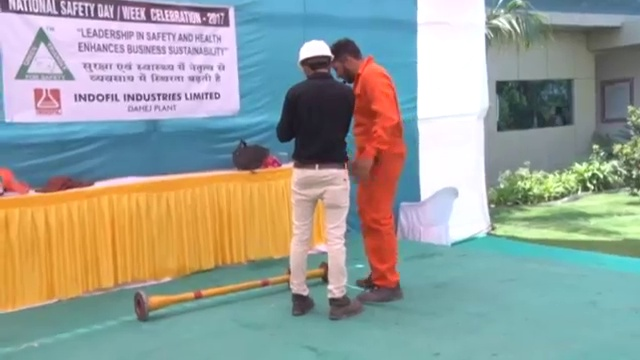helmet: (298, 39, 334, 66)
helmet_off: (328, 34, 363, 83)
helmet_on: (295, 38, 335, 78)
person: (278, 38, 363, 321), (329, 33, 413, 304)
